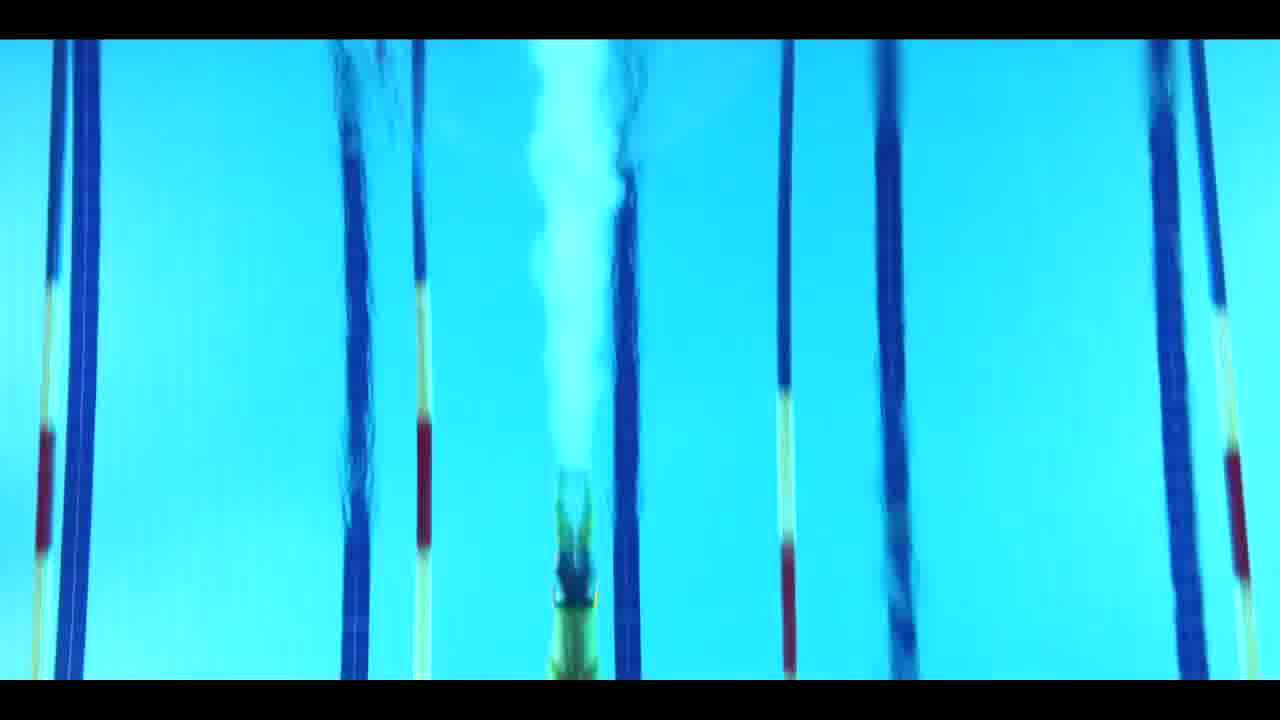swimmer: (540, 512, 603, 683)
